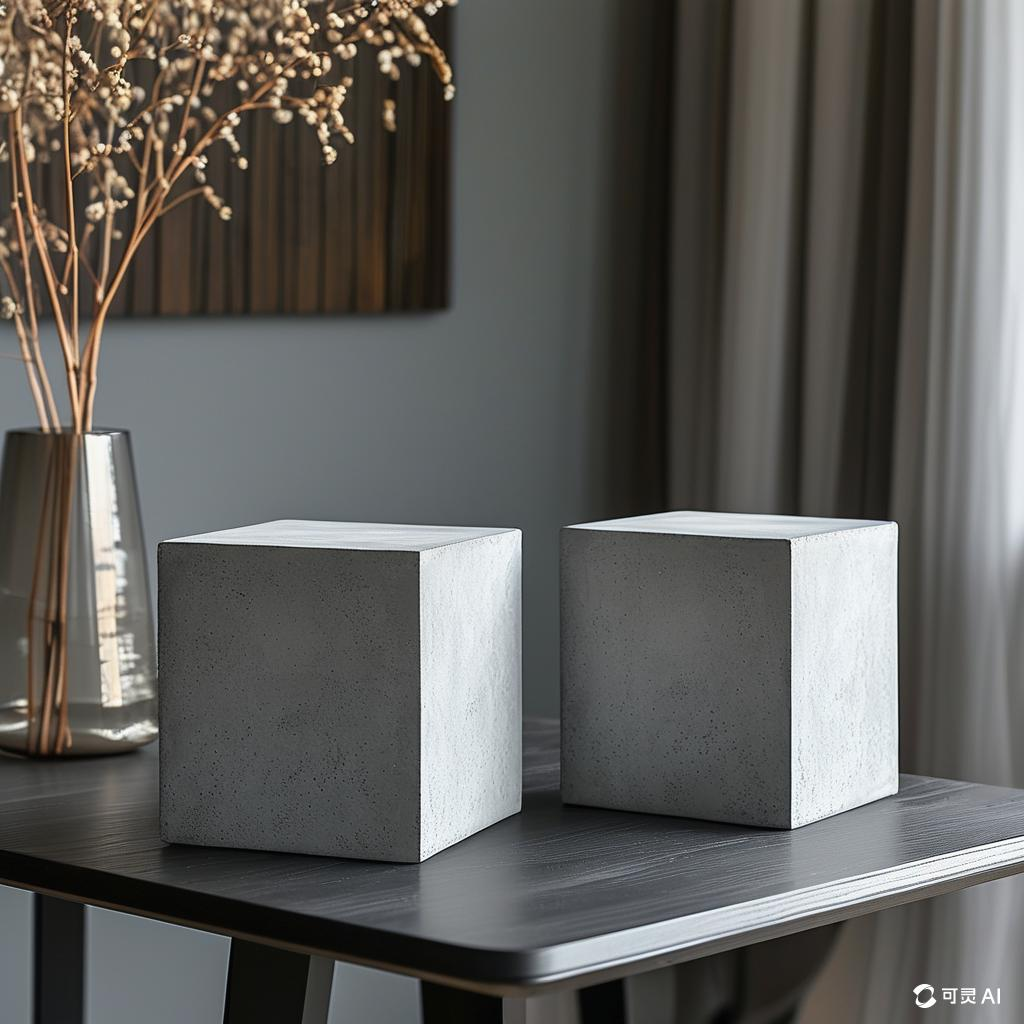cube: (155, 517, 523, 864), (557, 508, 899, 830)
